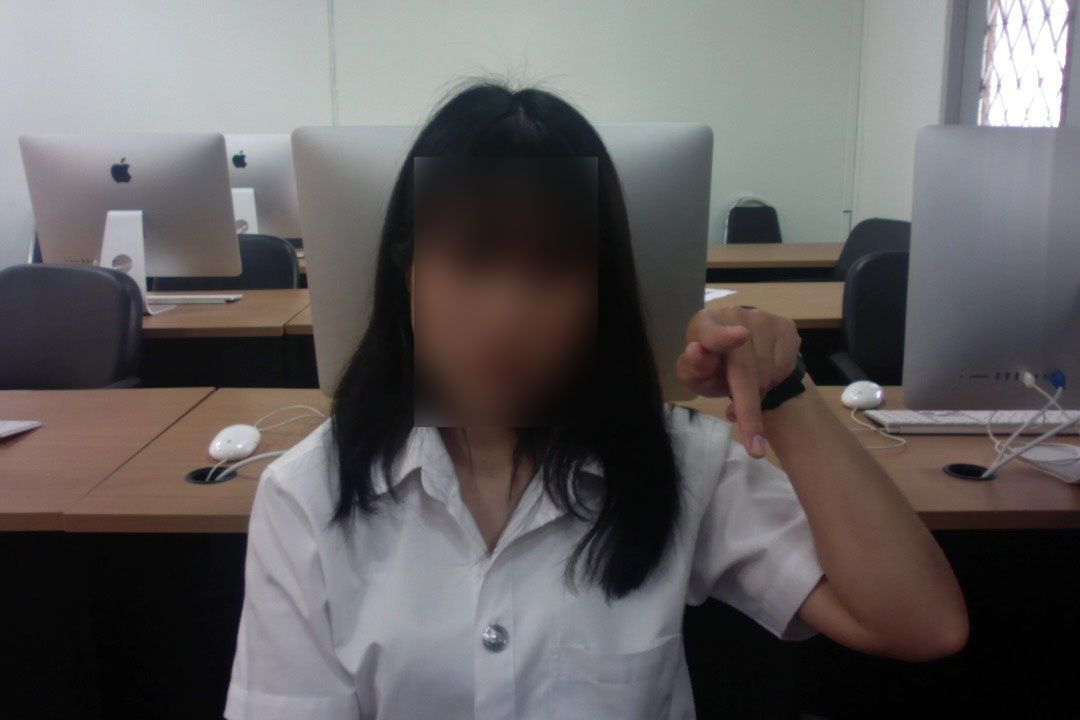por: (671, 291, 811, 462)
